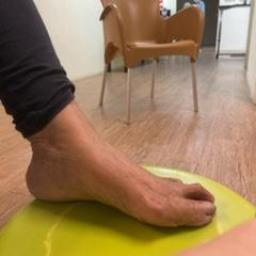Medial View -Left Foot-: (6, 90, 235, 244)
